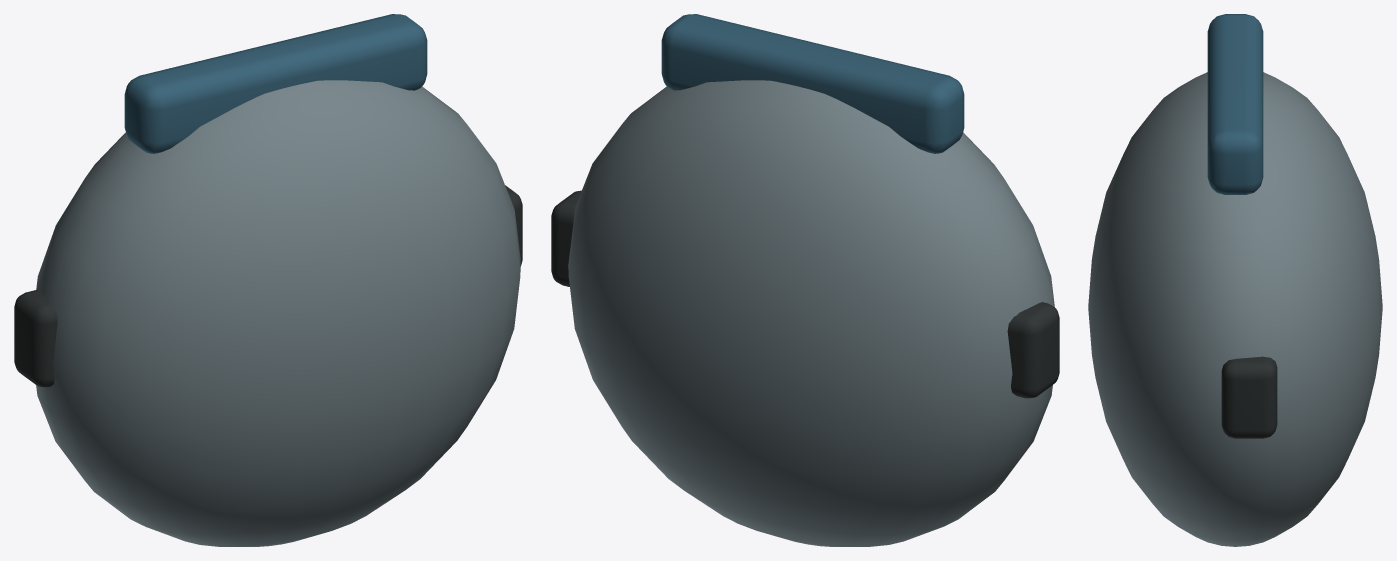
Rendered from loot_helmet_final.glb.
The picture shows the model from 3 angles, left to right: view 1: azimuth 30°, elevation 25°; view 2: azimuth 150°, elevation 25°; view 3: azimuth 270°, elevation 25°; orthographic projection. The views are drawn at different scales.
Visible parts, largest first — view 1: pickup_ballistic_helmet_shell, pickup_visor, helmet_rail_left; view 2: pickup_ballistic_helmet_shell, pickup_visor, helmet_rail_left, helmet_rail_right; view 3: pickup_ballistic_helmet_shell, pickup_visor, helmet_rail_right.
Part boxes in pixels (x1=…): pickup_ballistic_helmet_shell: x1=36, y1=80, x2=520, y2=546; pickup_visor: x1=124, y1=14, x2=427, y2=153; helmet_rail_left: x1=14, y1=289, x2=57, y2=387; pickup_ballistic_helmet_shell: x1=568, y1=80, x2=1054, y2=546; pickup_visor: x1=661, y1=14, x2=964, y2=153; helmet_rail_left: x1=1007, y1=302, x2=1059, y2=398; helmet_rail_right: x1=551, y1=190, x2=581, y2=286; pickup_ballistic_helmet_shell: x1=1088, y1=72, x2=1382, y2=546; pickup_visor: x1=1207, y1=14, x2=1263, y2=194; helmet_rail_right: x1=1221, y1=356, x2=1277, y2=438.
Size of the model in its own units: 0.75 by 0.71 by 0.4216.
